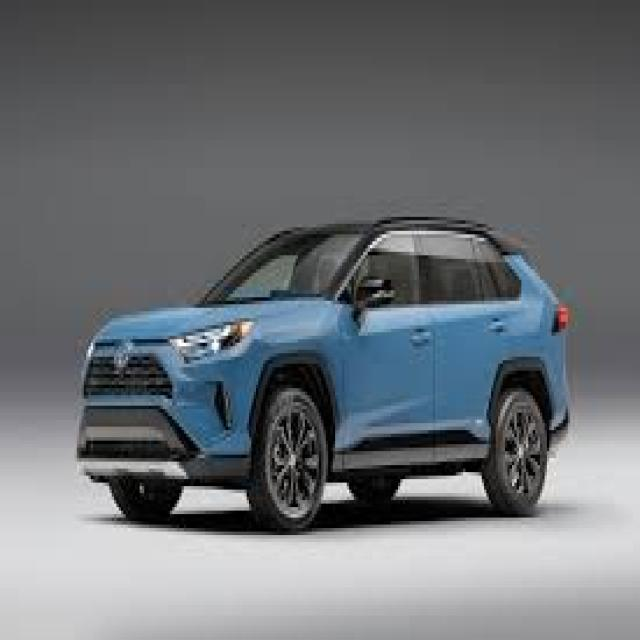light_vehicle: (76, 217, 574, 535)
